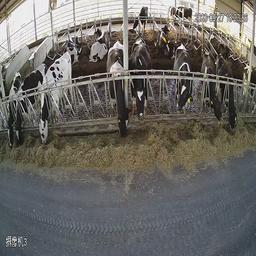cow: (40, 52, 72, 143), (14, 58, 41, 147), (130, 36, 153, 119), (109, 37, 128, 137), (200, 53, 221, 125), (171, 42, 191, 112), (222, 53, 238, 131), (4, 71, 16, 146), (158, 21, 175, 59), (91, 28, 108, 64), (175, 4, 195, 31), (67, 28, 81, 63), (136, 3, 150, 32), (167, 3, 176, 22)
